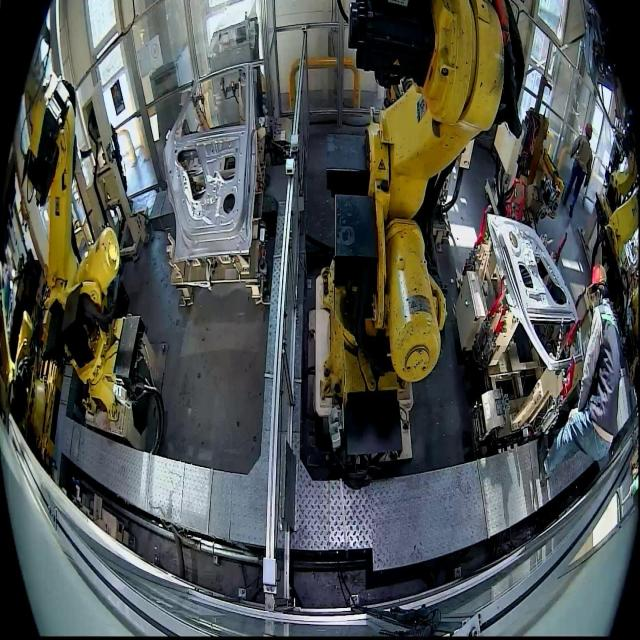Person: (538, 264, 622, 488), (561, 122, 593, 218)
